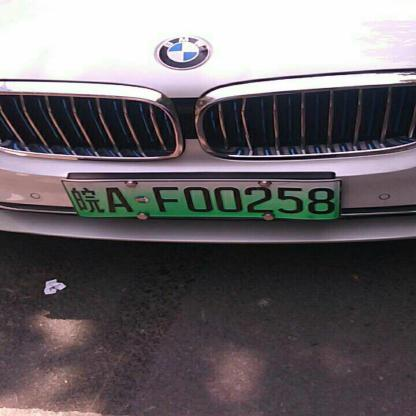lp: (61, 178, 343, 219)
